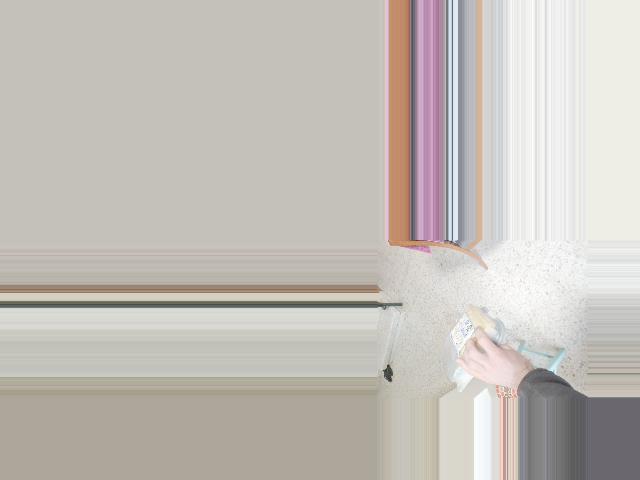cheese: (451, 295, 490, 387)
